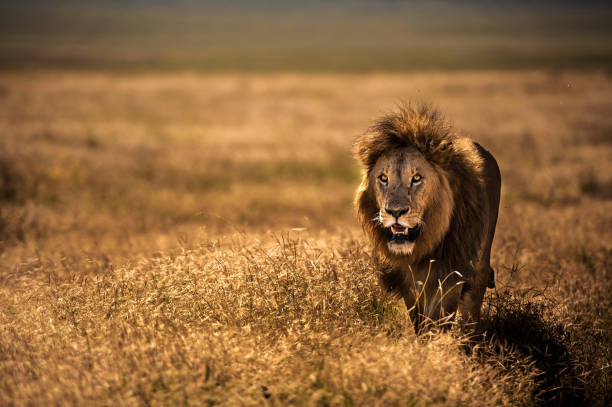lion: (321, 94, 493, 294)
